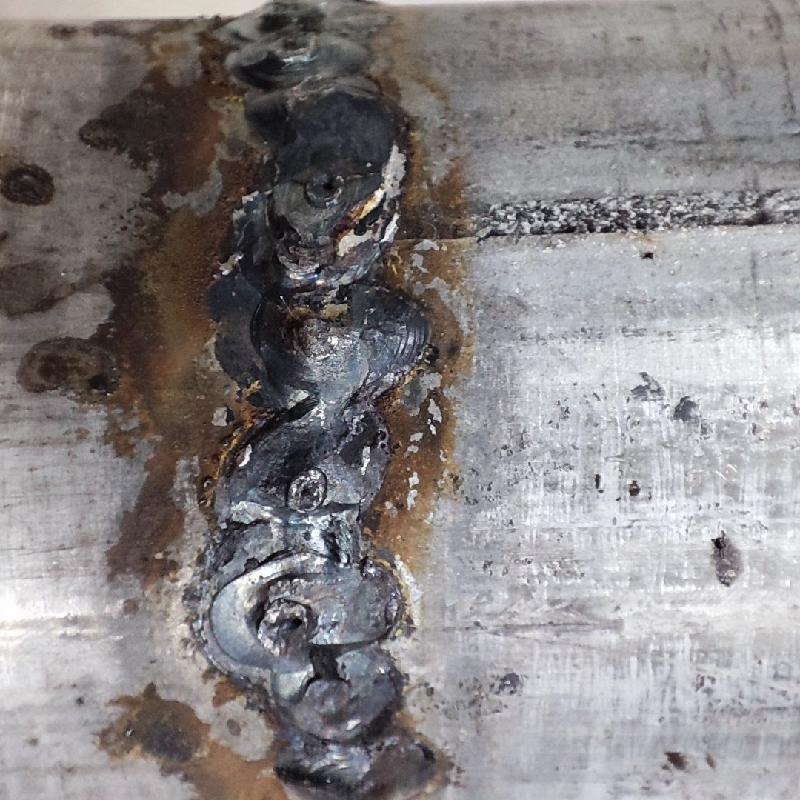Surface_pores: (253, 598, 320, 645), (286, 466, 328, 515), (312, 165, 343, 202)
wrong_size: (217, 3, 413, 742)
